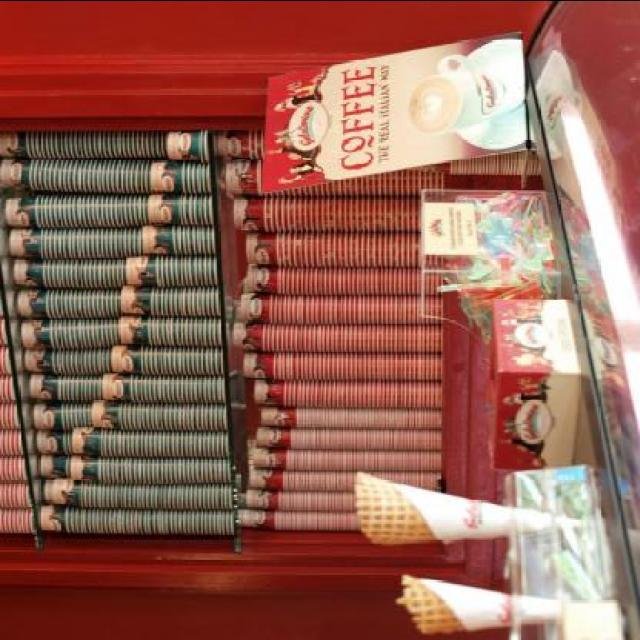Ice cream: (348, 469, 578, 548), (384, 576, 542, 638)
